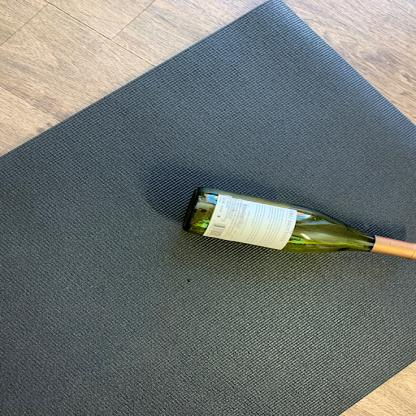trash: (180, 184, 416, 262)
